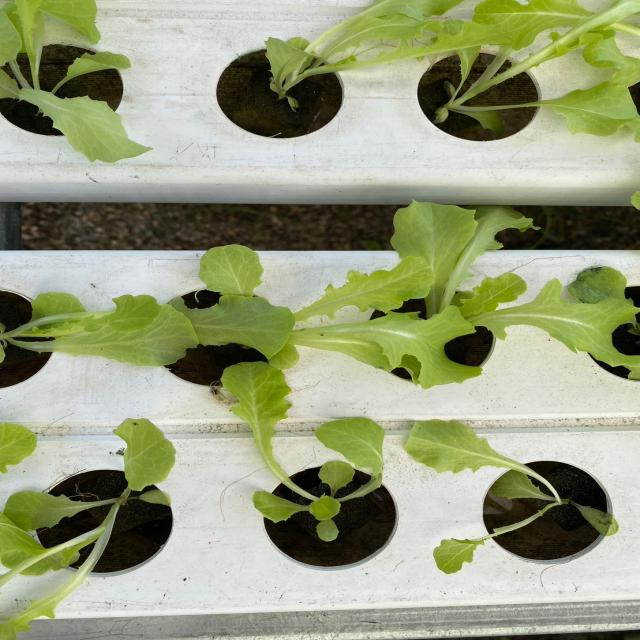Lettuce-Not-Ready-to-Harvest: (405, 195, 640, 375), (0, 416, 186, 640), (196, 245, 483, 386), (408, 406, 617, 585), (220, 361, 387, 544), (262, 0, 503, 111), (429, 0, 640, 126), (0, 0, 150, 160), (0, 292, 291, 363)
